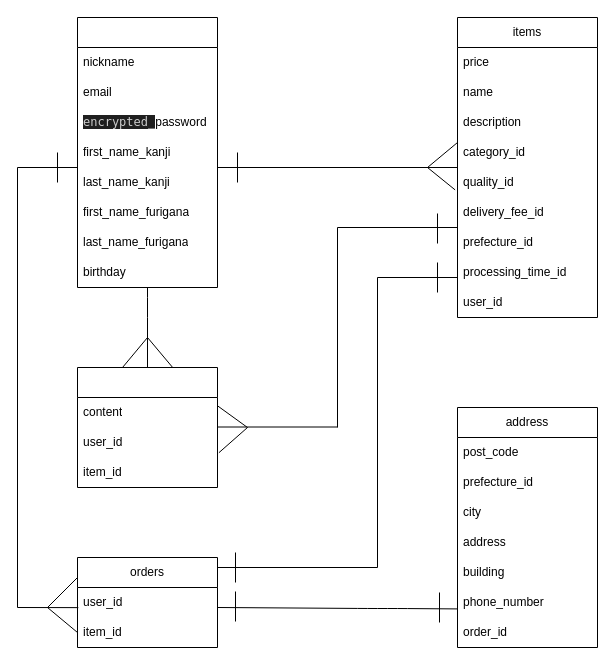
The diagram is 615 pixels wide and 665 high, and some of its shapes have lost their labels. The shapes that lost their labels are listed below. From the top down, each one's box as (x1, y1, x2, y2) in pixels, then its label:
(76, 16, 218, 288): users
(76, 366, 218, 488): comments
